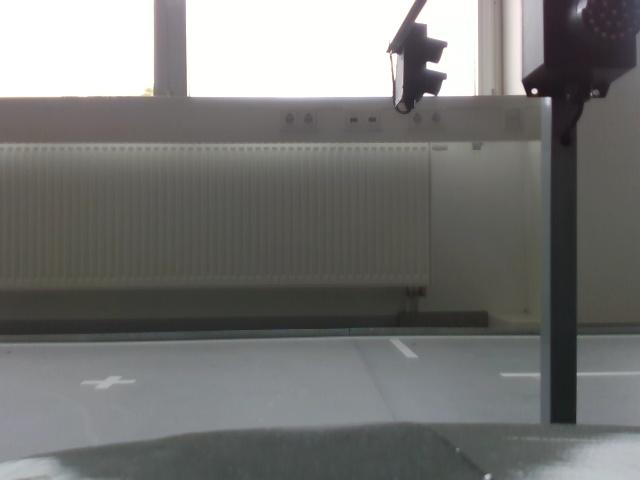traffic light: (519, 1, 640, 101), (388, 20, 453, 112)
